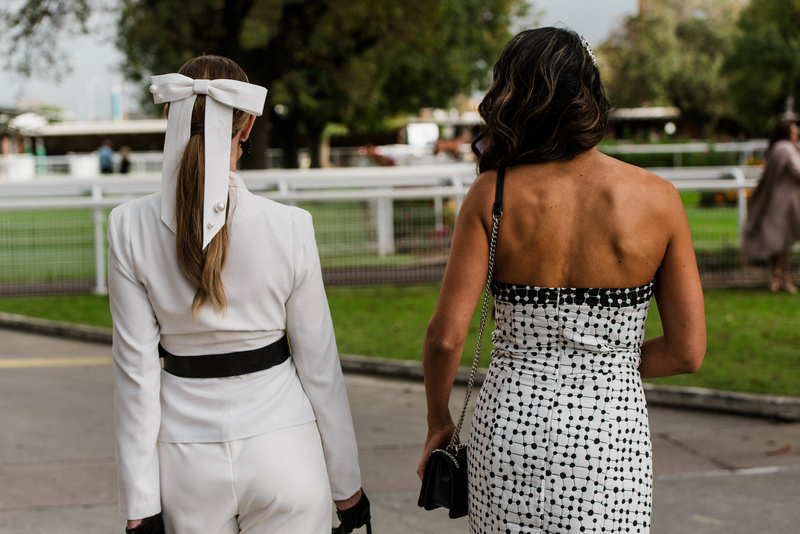Person: (417, 28, 707, 534), (108, 54, 370, 534)
